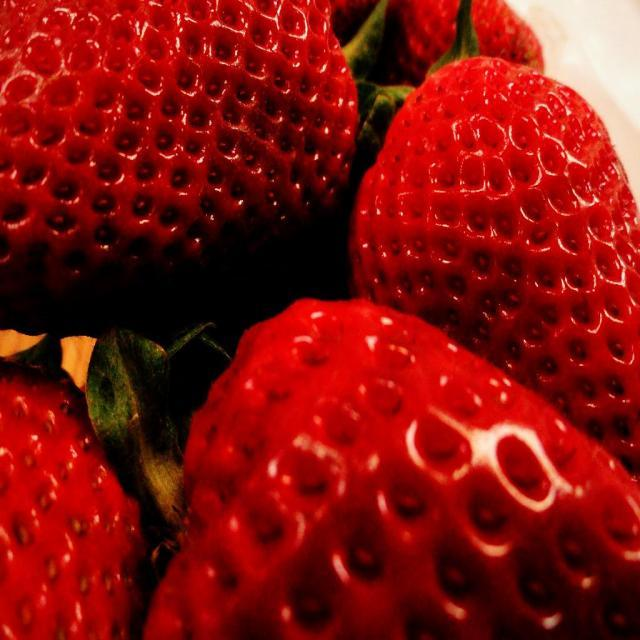Strawberry: (142, 304, 640, 640), (0, 0, 357, 331), (345, 59, 620, 439), (0, 356, 150, 639), (379, 0, 545, 88)
